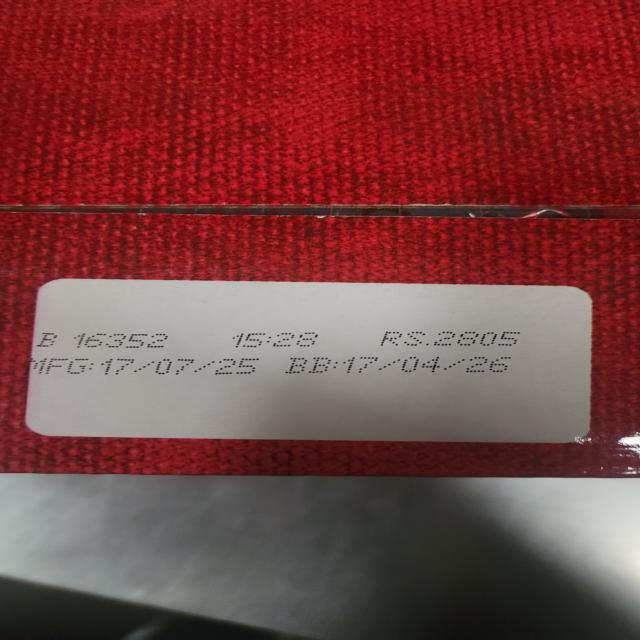BB: (284, 352, 521, 376)
Batch: (31, 329, 182, 353)
MFG: (28, 358, 268, 380)
RS: (372, 326, 526, 352)
TimeStamp: (222, 332, 326, 352)
